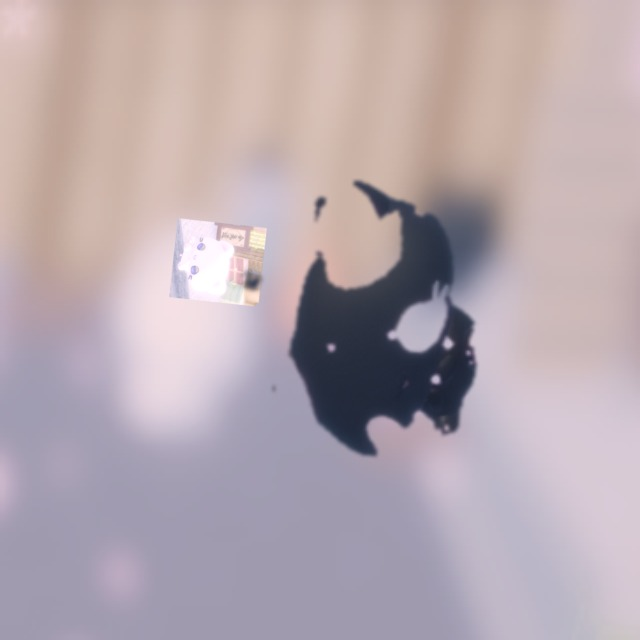urso_branco: (169, 218, 267, 307)
urso_preto: (242, 136, 520, 509), (233, 264, 268, 298)
